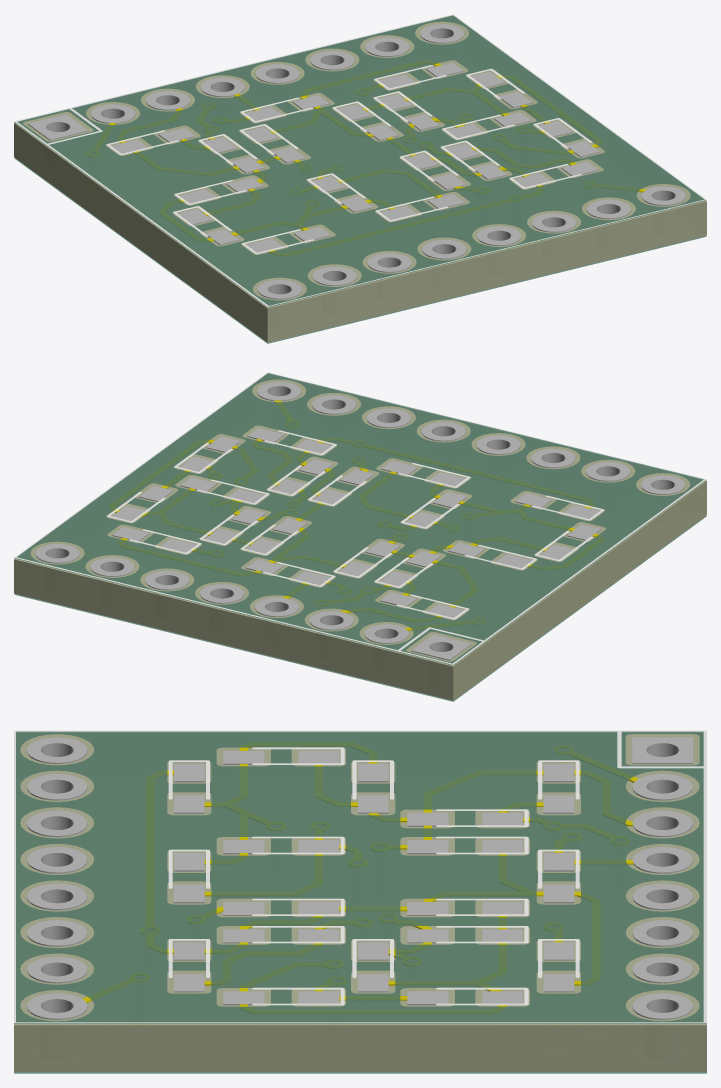
The model's file is saintcon-2017-208-mini-badge.glb.
3 renders of one model, top to bottom at view 1: azimuth 30°, elevation 25°; view 2: azimuth 150°, elevation 25°; view 3: azimuth 270°, elevation 25°, orthographic. The views are drawn at different scales.
Visible parts, largest first — view 1: =>[0:1:1:9], =>[0:1:1:7], =>[0:1:1:2], =>[0:1:1:5]; view 2: =>[0:1:1:9], =>[0:1:1:7], =>[0:1:1:2], =>[0:1:1:5]; view 3: =>[0:1:1:9], =>[0:1:1:7], =>[0:1:1:2], =>[0:1:1:5].
Part boxes in pixels (left/top/right/bottom): =>[0:1:1:9]: left=14, top=16, right=706, bottom=342; =>[0:1:1:7]: left=14, top=15, right=706, bottom=343; =>[0:1:1:2]: left=28, top=24, right=685, bottom=299; =>[0:1:1:5]: left=14, top=14, right=706, bottom=306; =>[0:1:1:9]: left=14, top=374, right=706, bottom=700; =>[0:1:1:7]: left=14, top=373, right=706, bottom=701; =>[0:1:1:2]: left=35, top=381, right=685, bottom=660; =>[0:1:1:5]: left=14, top=372, right=706, bottom=664; =>[0:1:1:9]: left=14, top=733, right=706, bottom=1071; =>[0:1:1:7]: left=14, top=731, right=706, bottom=1073; =>[0:1:1:2]: left=27, top=737, right=692, bottom=1019; =>[0:1:1:5]: left=14, top=730, right=706, bottom=1023.
Bounding box in the file's own units: 0.0204 × 0.00166 × 0.0204.
4 materials, 4 textured.
